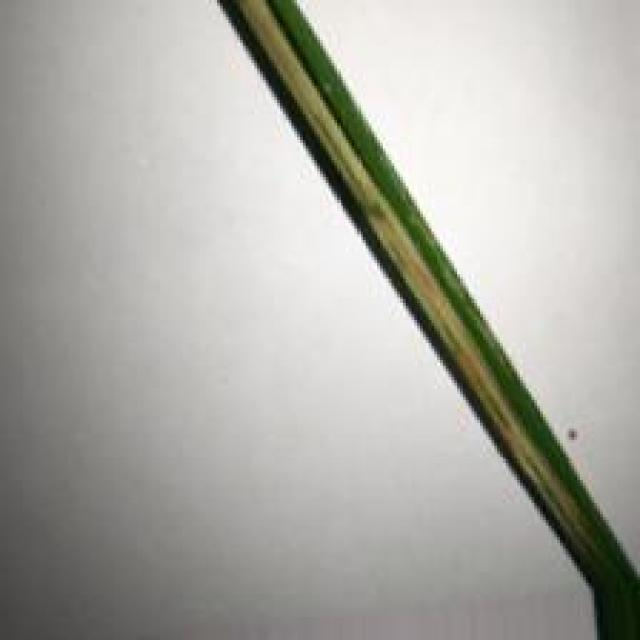Rice_Hispa: (224, 0, 597, 584)
